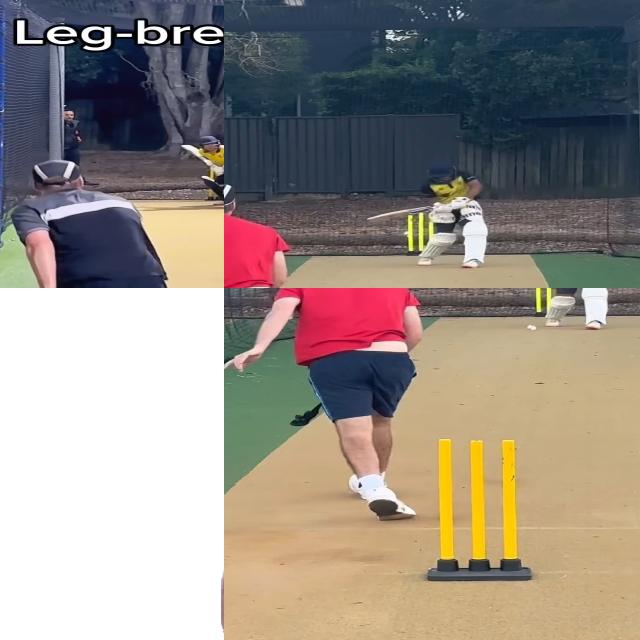Cricket ball: (525, 323, 539, 331), (403, 229, 411, 237)
Stumps: (426, 437, 536, 583), (405, 211, 435, 255)
